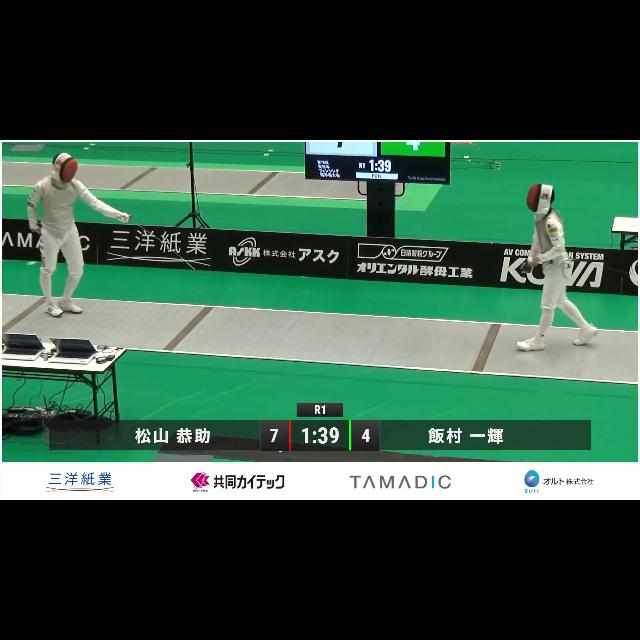blade: (121, 212, 201, 280)
